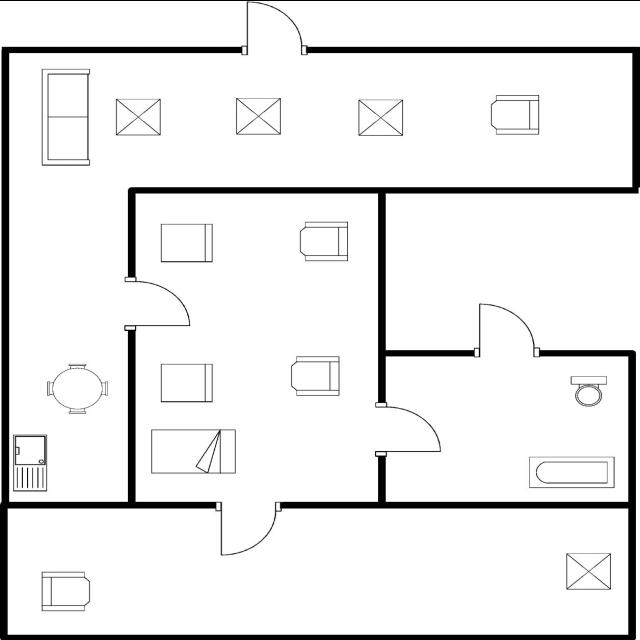armchair: (485, 90, 544, 140), (294, 217, 353, 265), (37, 567, 95, 615), (286, 351, 344, 399)
bed: (147, 426, 239, 476)
coffee_table: (560, 548, 616, 592), (355, 94, 407, 140), (231, 94, 285, 138), (112, 95, 166, 138)
large_sink: (565, 372, 613, 409)
large_sofa: (38, 64, 94, 168)
round_table: (42, 358, 112, 417)
sink: (9, 431, 51, 493)
small_sofa: (156, 220, 217, 266), (156, 360, 216, 404)
tub: (524, 452, 618, 492)
